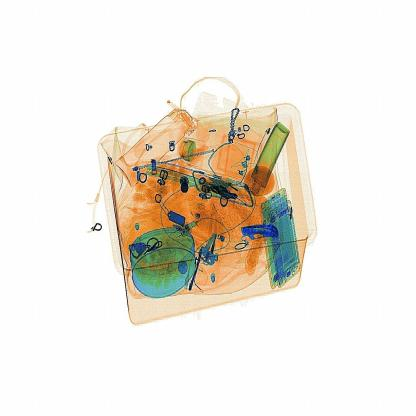knife: (236, 217, 294, 254)
